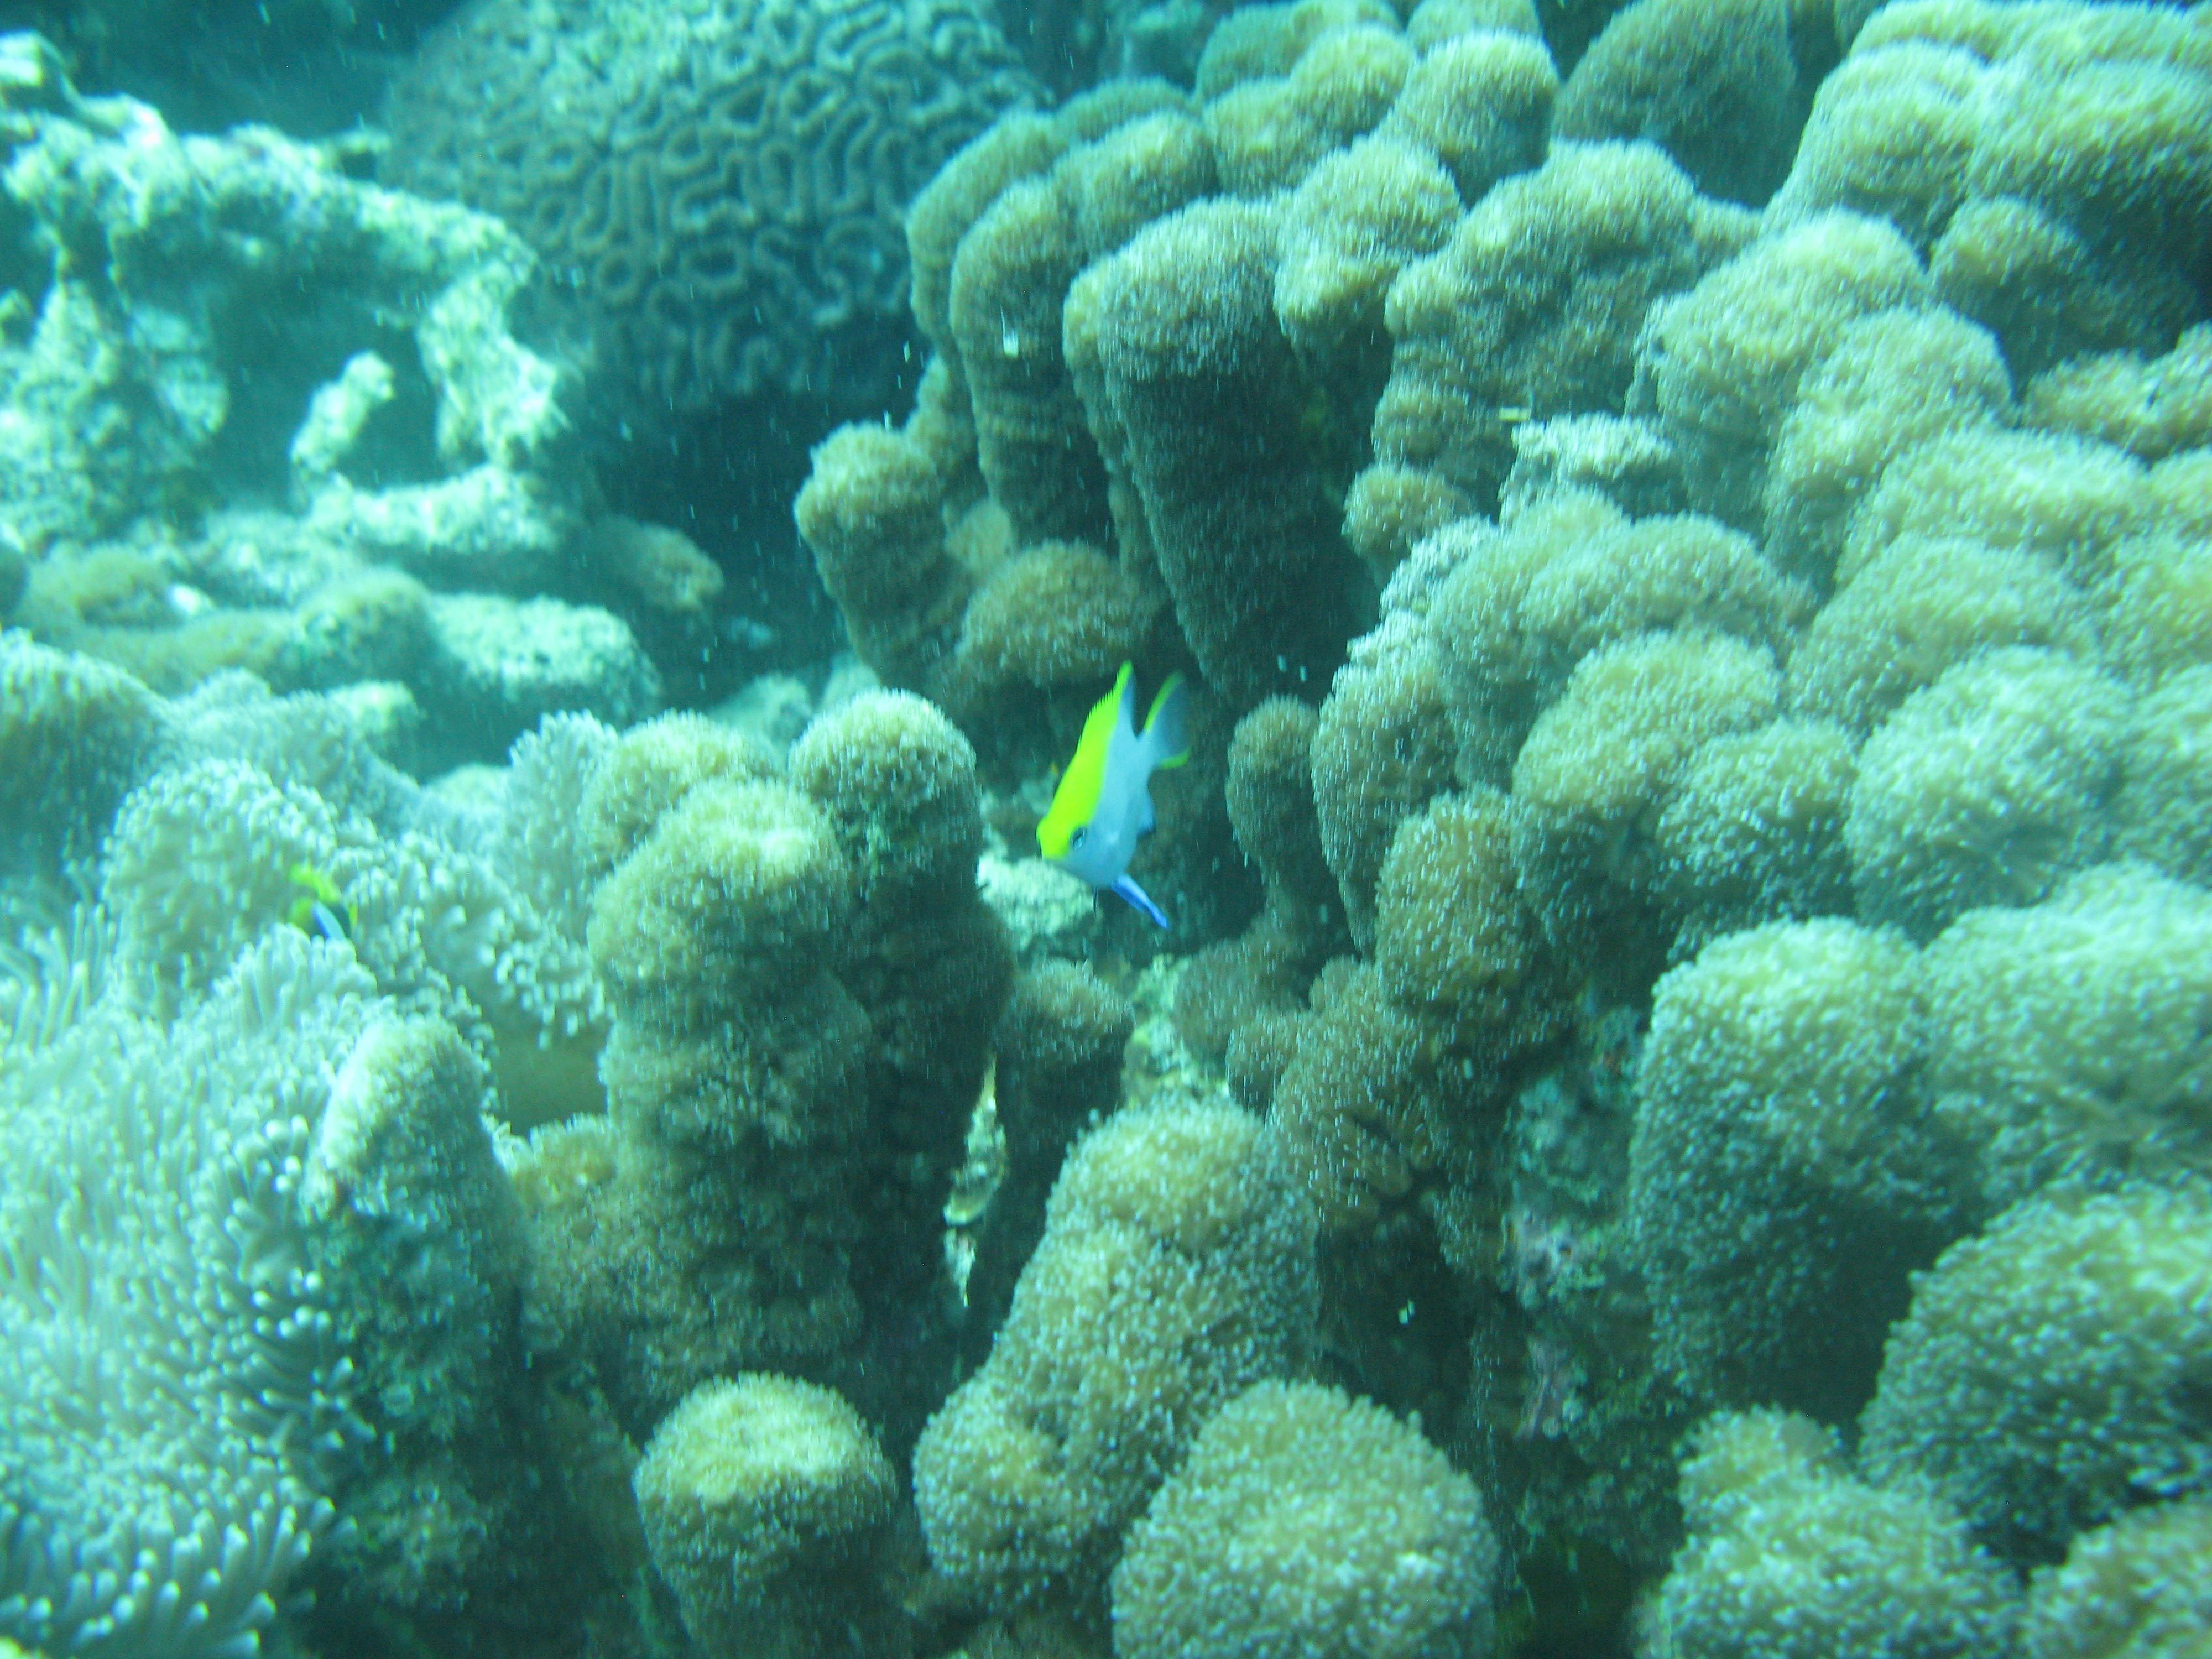Fish: (977, 634, 1258, 999)
